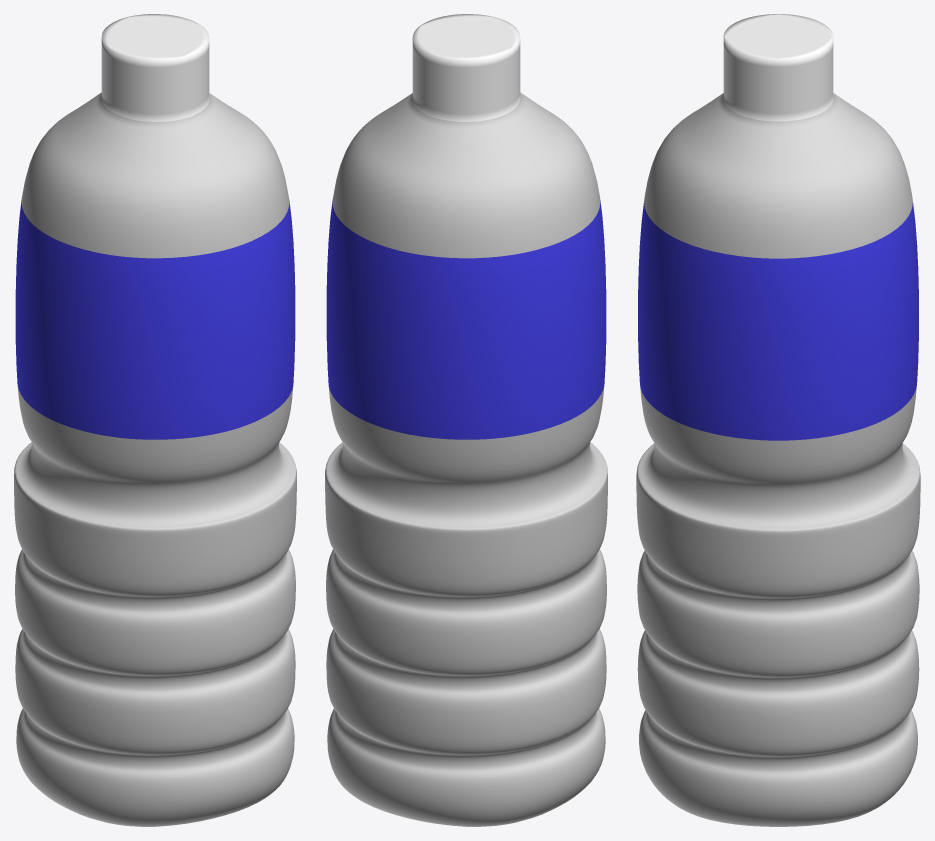
The model's file is Water.fbx.
The picture shows the model from 3 angles, left to right: view 1: azimuth 30°, elevation 25°; view 2: azimuth 150°, elevation 25°; view 3: azimuth 270°, elevation 25°; orthographic projection.
Parts seen in each view (by area): view 1: 円; view 2: 円; view 3: 円.
Boxes of the visible parts, box(x1,y1,x2,y2) form: 円: box(14, 14, 296, 826); 円: box(325, 14, 607, 826); 円: box(636, 14, 920, 826).
Bounding box in the file's own units: 182 × 533 × 182.
